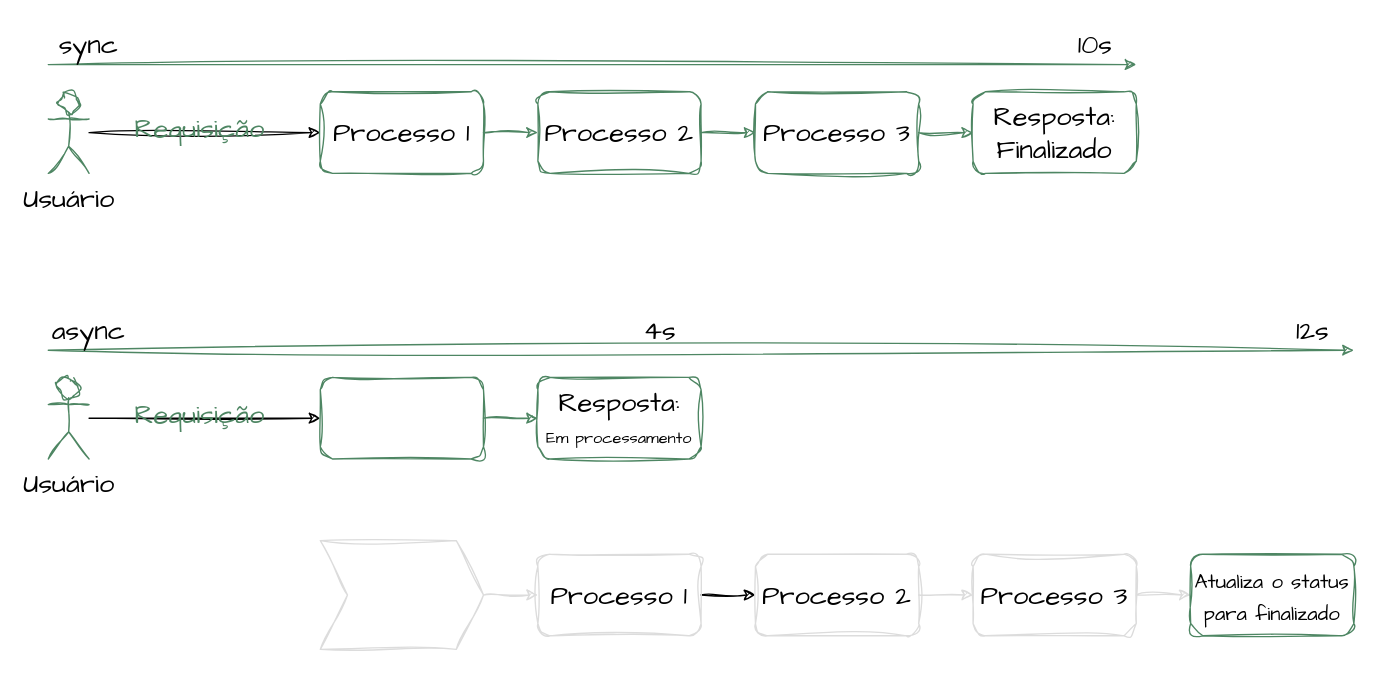
Image size: 1389x675. Some labels were removed from this diagram. The shapes that lost their labels are listed below. From the top down, each one's centre as x and y in pixels, then its label:
At (x=401, y=417): "Salva a requisição".
At (x=401, y=594): "Nova mensagem para processar".
